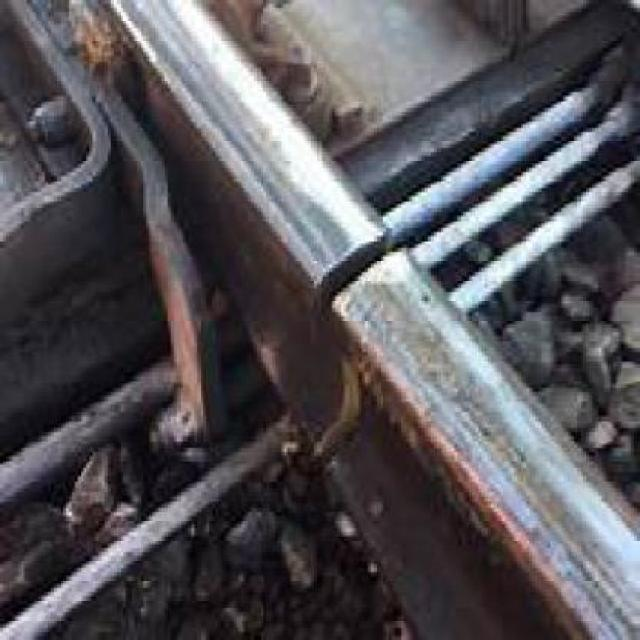defective: (144, 18, 506, 594)
